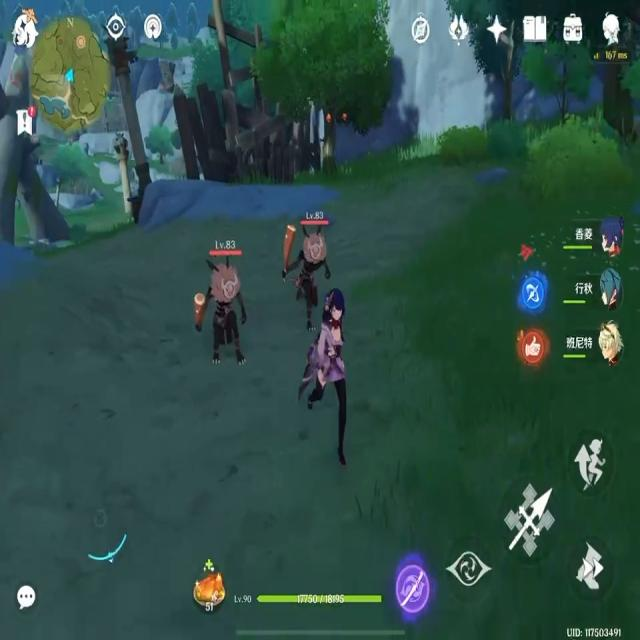genshin-hilichurls: (195, 264, 248, 365), (286, 225, 325, 332)
